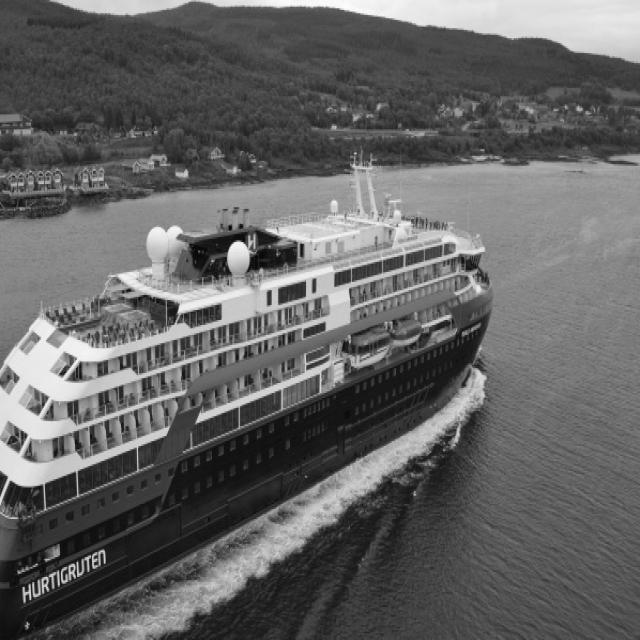cruises: (1, 153, 499, 640)
